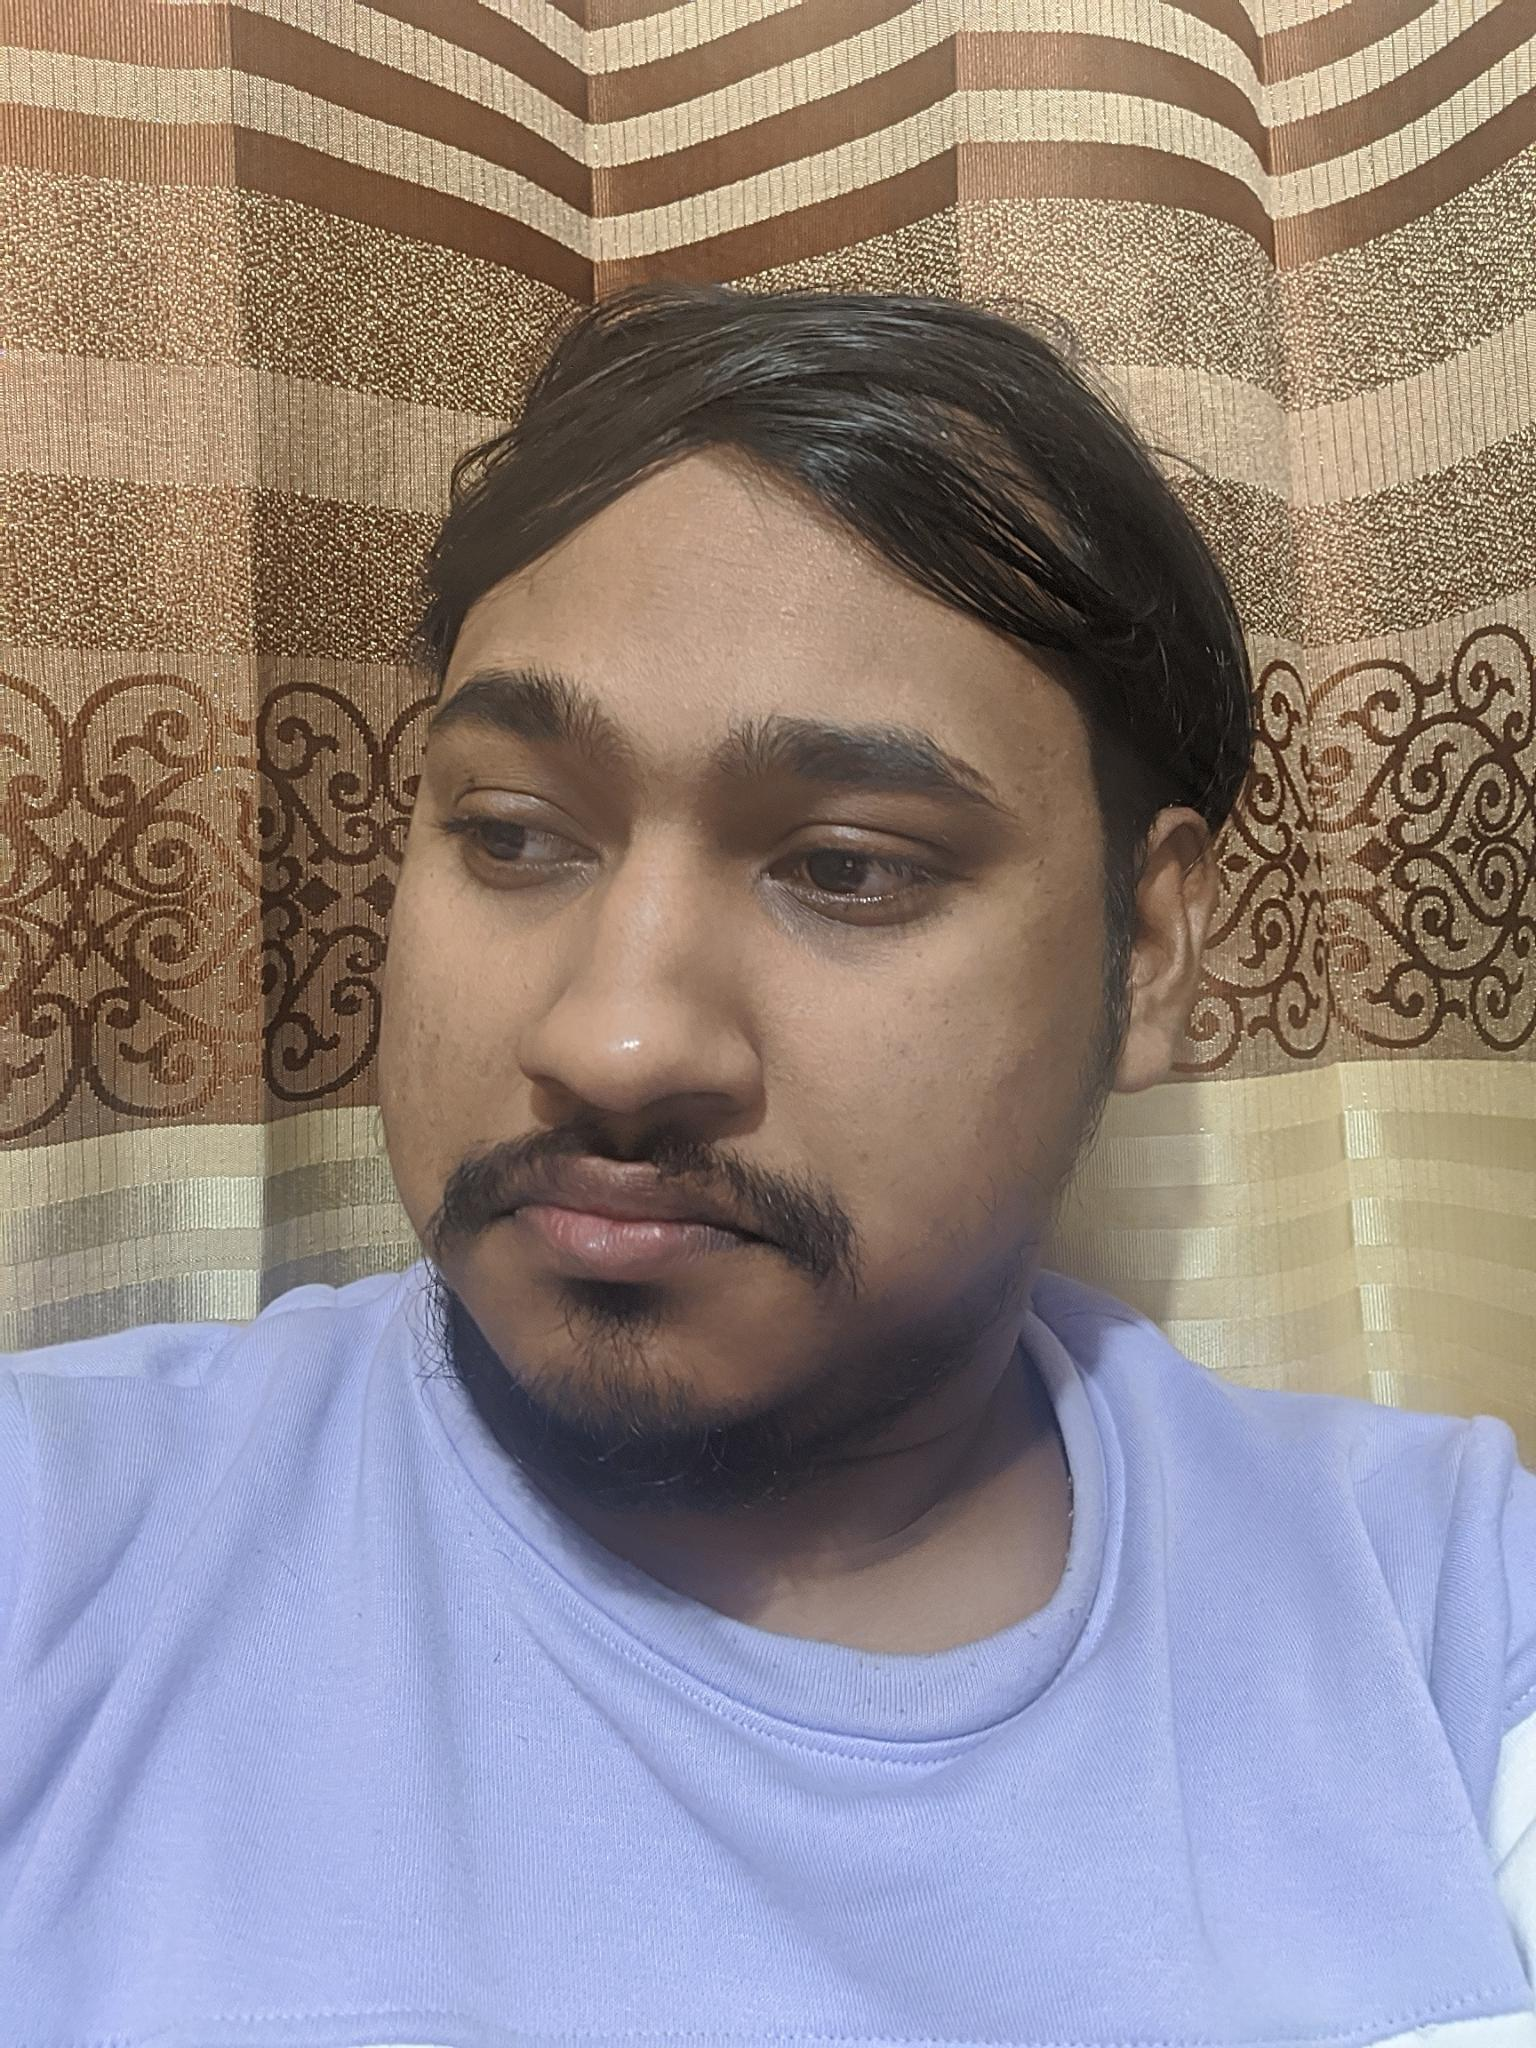Sad: (308, 566, 1091, 1435)
